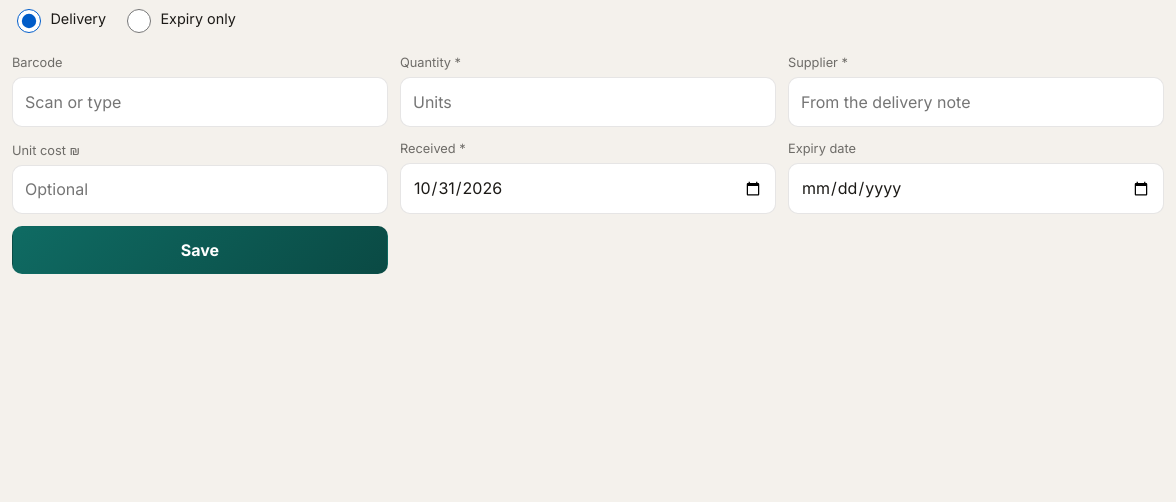
ReceivingCaptureForm › saves a line and returns focus to the barcode field
Type "7290000066318" into the field labelled "Barcode" at (200, 102), box [12,77,388,127]
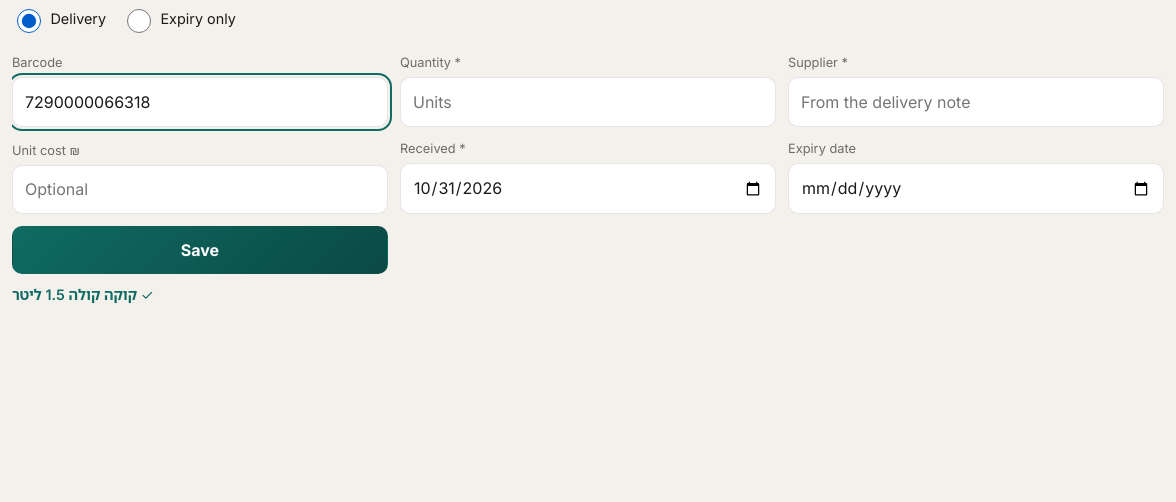
Type "24" into the field labelled "Quantity *" at (588, 102), box [400,77,776,127]
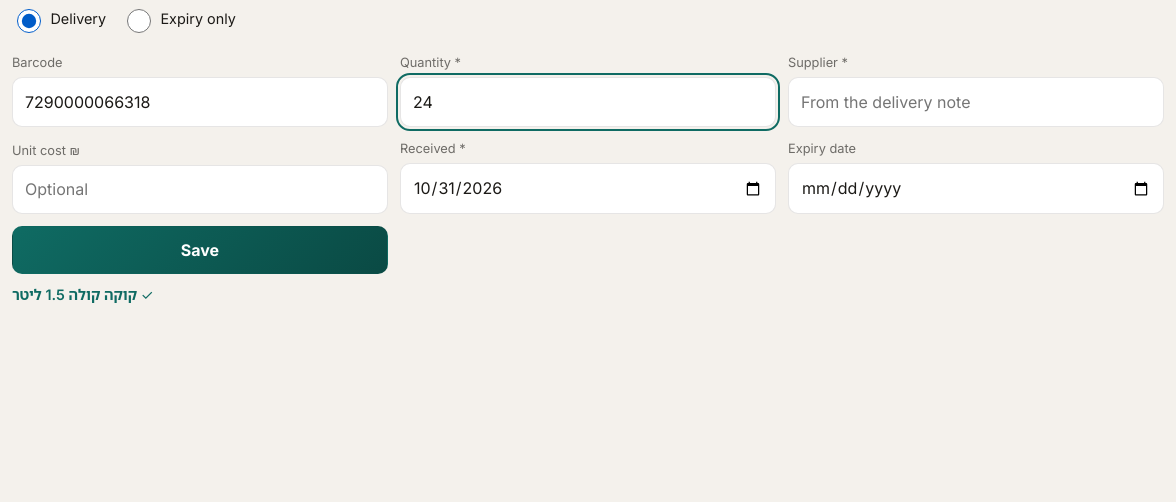
Type "Tempo" into the field labelled "Supplier *" at (976, 102), box [788,77,1164,127]
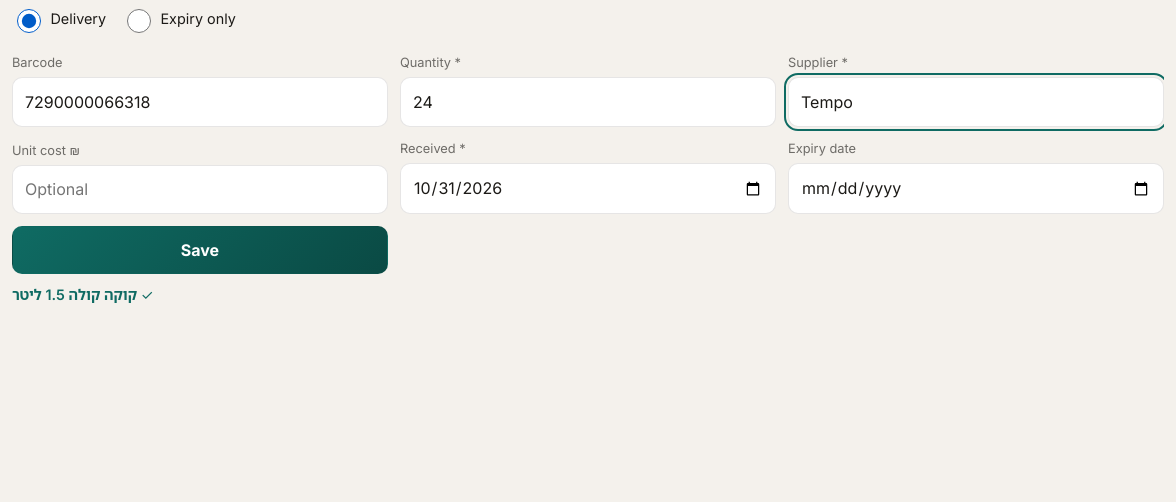
Click the button "Save" at (200, 250), box [12,226,388,274]
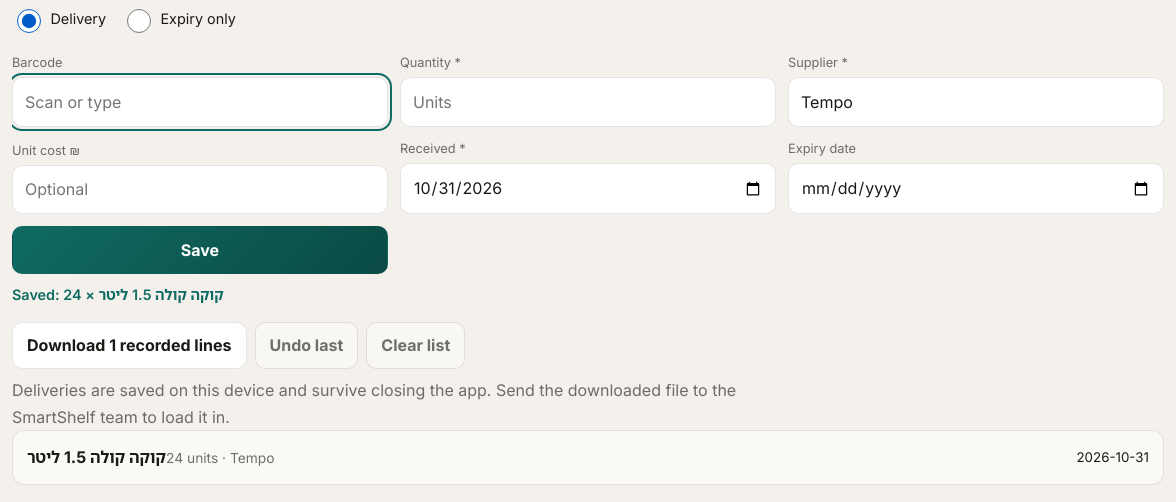
Now the text "Saved: 24 × קוקה קולה 1.5 ליטר" is shown, box [12,286,224,303]
